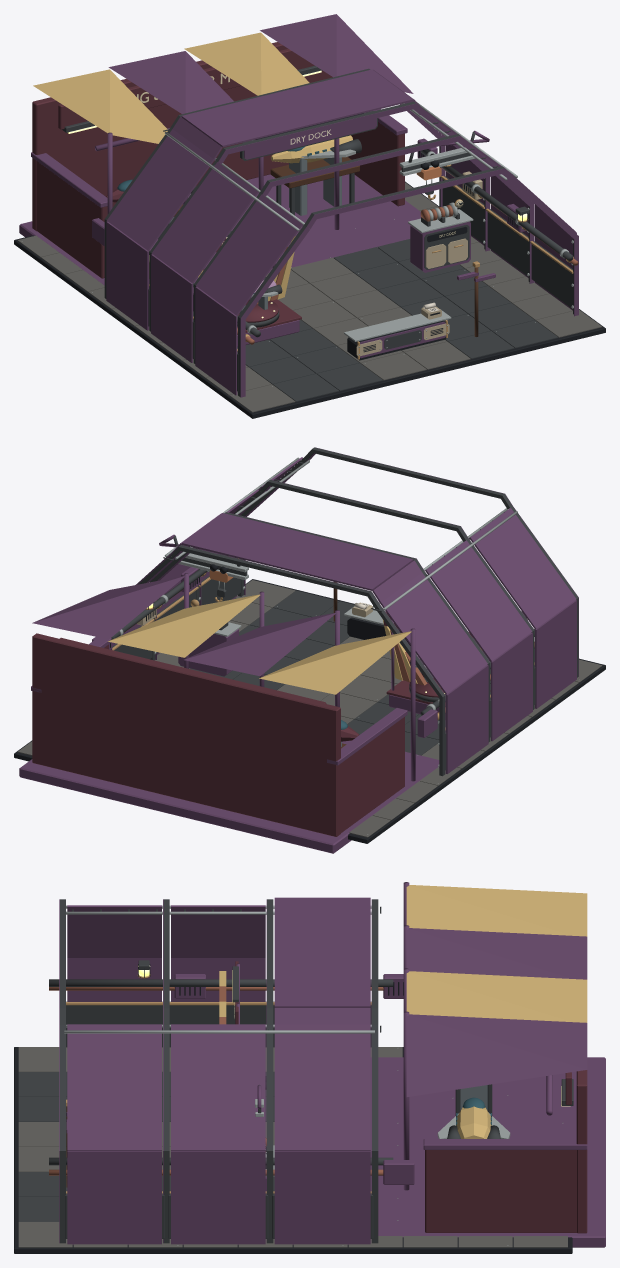
Rendered from amethyne-yard.glb.
3 views of the same model, one above another, from view 1: azimuth 30°, elevation 25°; view 2: azimuth 150°, elevation 25°; view 3: azimuth 270°, elevation 25° (orthographic). The views are drawn at different scales.
Visible parts, largest first — view 1: amethyne-yard; view 2: amethyne-yard; view 3: amethyne-yard.
Part boxes in pixels (box(x1,y1,x2,y2)): amethyne-yard: box(14, 14, 605, 418); amethyne-yard: box(14, 447, 605, 853); amethyne-yard: box(14, 882, 605, 1253).
Bounding box in the file's own units: 17.08 × 8.13 × 21.15.
Materials: 22 (17 with a texture image).
